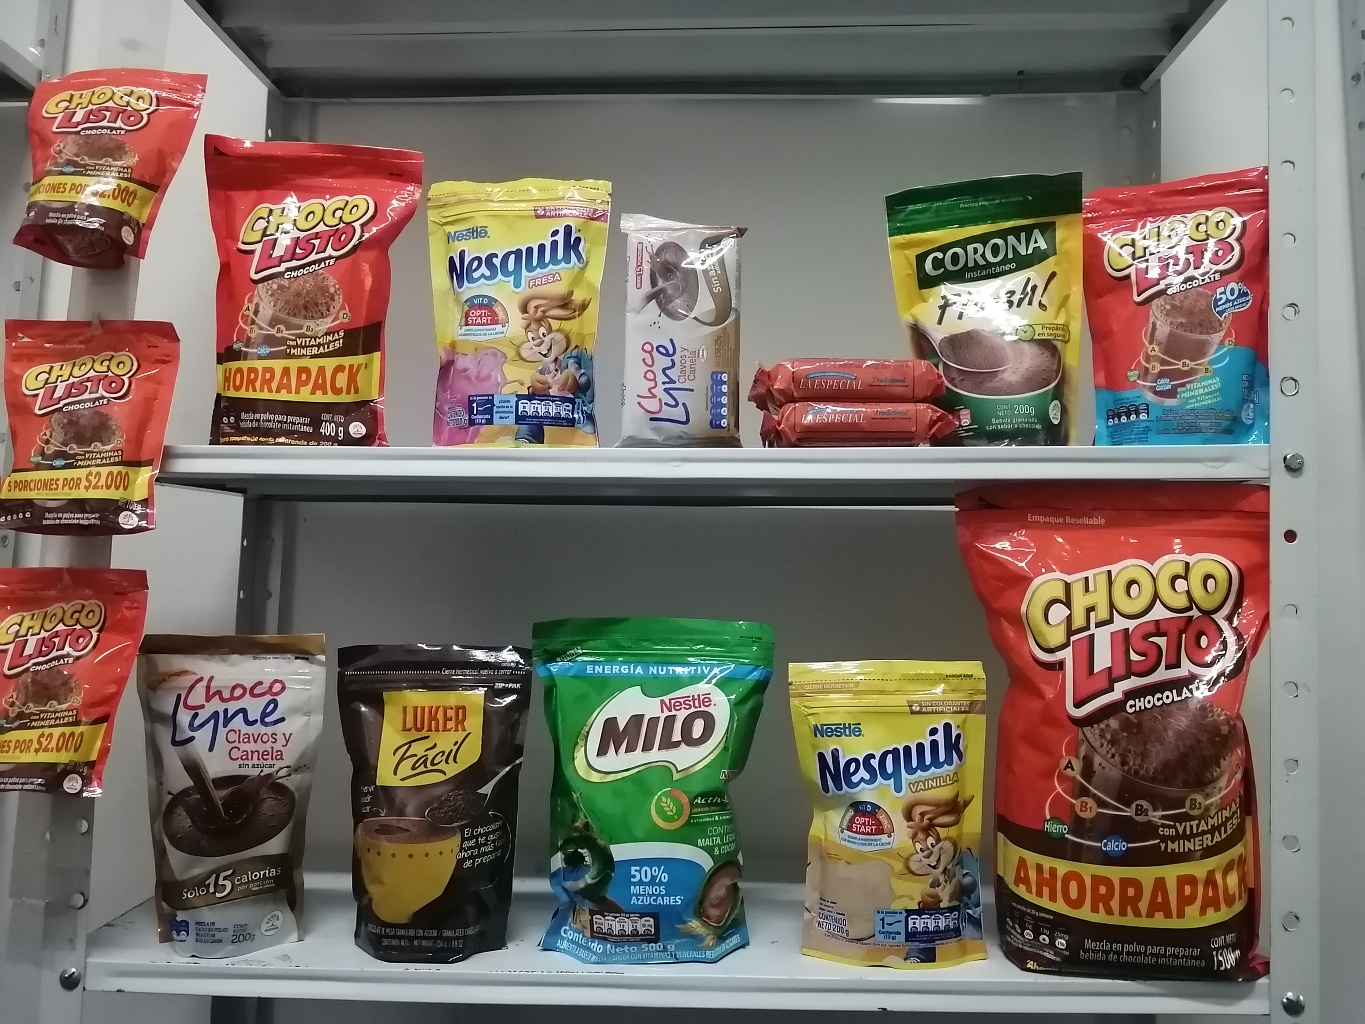COL0170103DYP1,500: (962, 486, 1290, 995)
COL0170103DYP10000: (9, 39, 203, 286)
COL0170103DYP40000: (207, 112, 429, 442)
COL0170104DYP20000: (1075, 162, 1268, 458)
COL0170205DYP50000: (540, 610, 792, 971)
COL0170305DYP20000: (420, 156, 609, 442)
COL0170306DYP20000: (779, 651, 995, 977)
